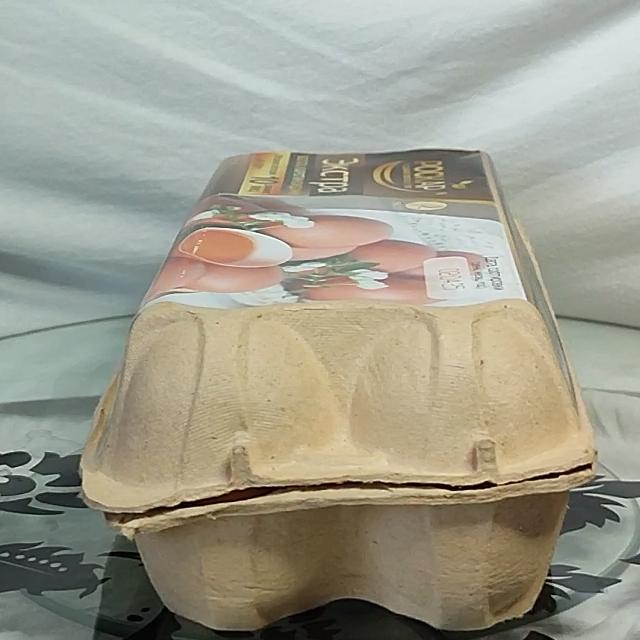egg: (107, 150, 581, 626)
